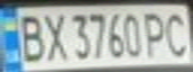0: (121, 9, 145, 58)
3: (66, 9, 90, 61)
6: (106, 9, 127, 60)
7: (87, 9, 109, 60)
B: (12, 10, 48, 63)
C: (160, 8, 193, 59)
P: (142, 8, 172, 59)
X: (39, 9, 69, 62)
